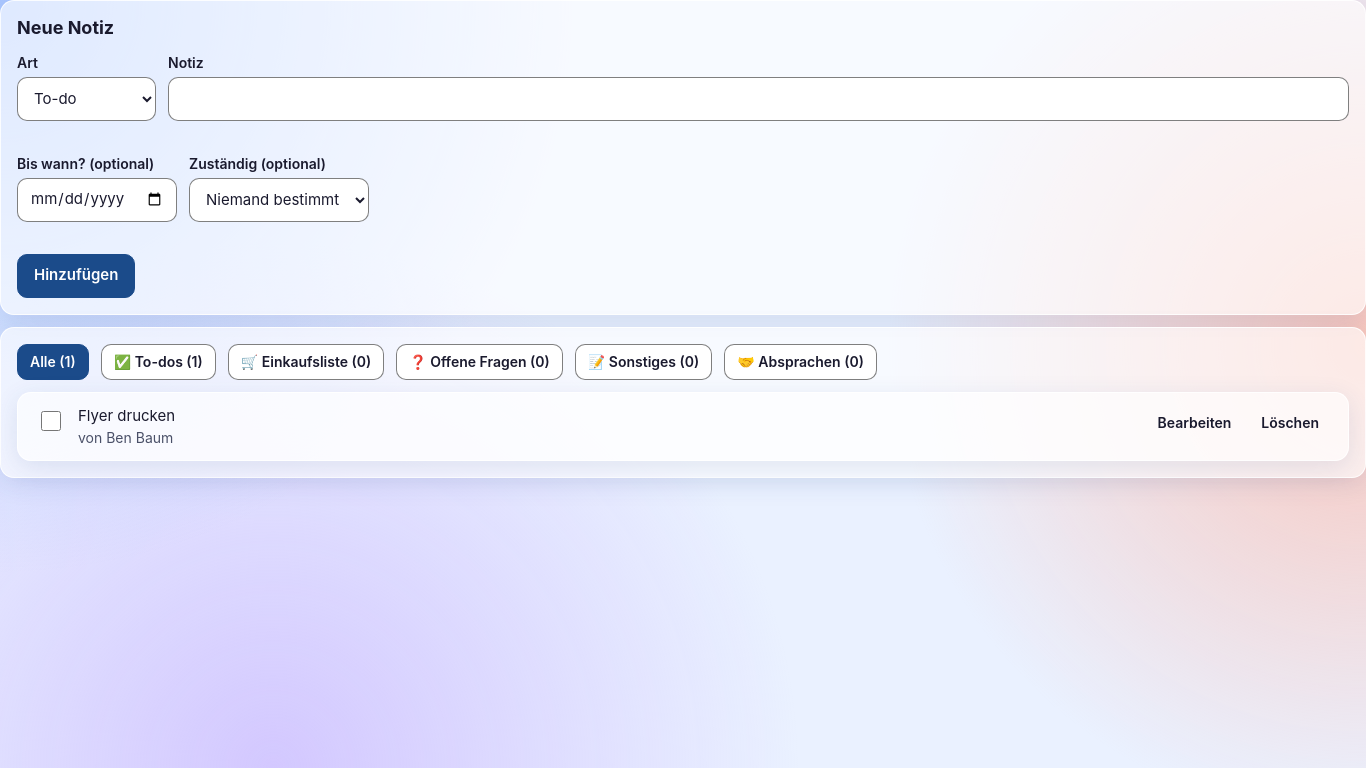
Test: Notizen: anlegen, erledigen, ändern, löschen › ein Fehler wird angezeigt
Click the checkbox named "Flyer drucken – erledigt" at (50, 420), box [40, 410, 60, 430]
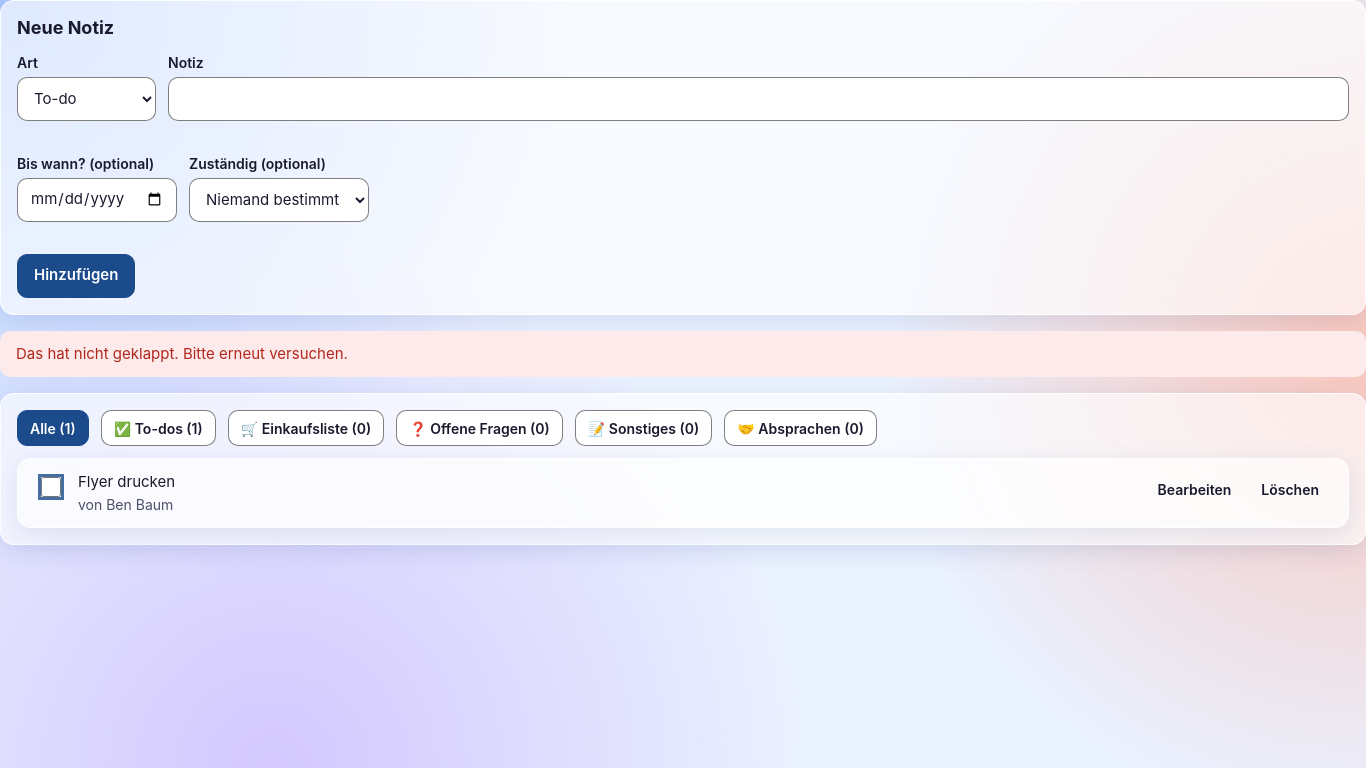
Check: the message "Das hat nicht geklappt. Bitte erneut versuchen." is shown, box [0, 330, 1365, 377]
